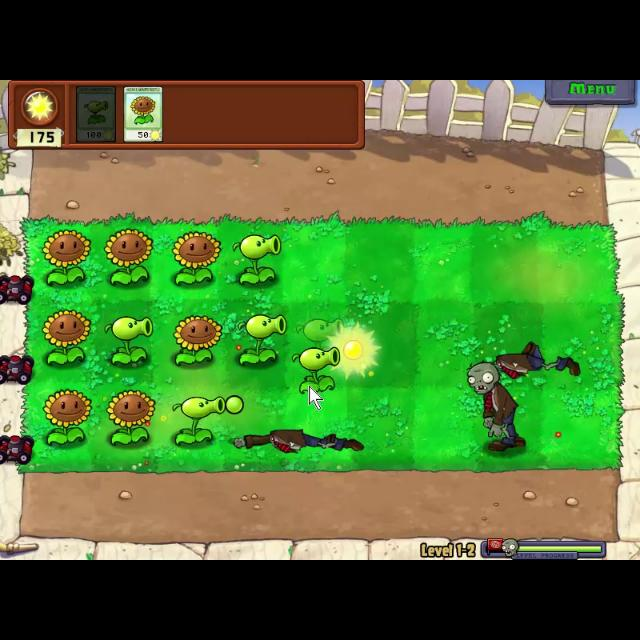Garden: (18, 216, 624, 474)
Menu Button: (544, 80, 636, 106)
Mower: (1, 432, 40, 466), (0, 352, 36, 386), (0, 269, 32, 305)
Peashooter: (75, 86, 117, 144)
Peashooter Seed: (168, 389, 226, 449), (100, 313, 156, 369), (230, 229, 282, 285), (236, 310, 286, 366), (292, 341, 341, 397)
Seed Panel: (7, 80, 367, 154)
Sun: (327, 324, 379, 384)
Sunflower: (124, 86, 166, 144)
Sunflower Seed: (40, 386, 94, 452), (103, 386, 159, 448), (166, 228, 222, 288), (102, 226, 154, 288), (167, 309, 223, 366), (40, 307, 92, 368), (41, 226, 90, 288)
Zombie: (464, 358, 530, 454)
